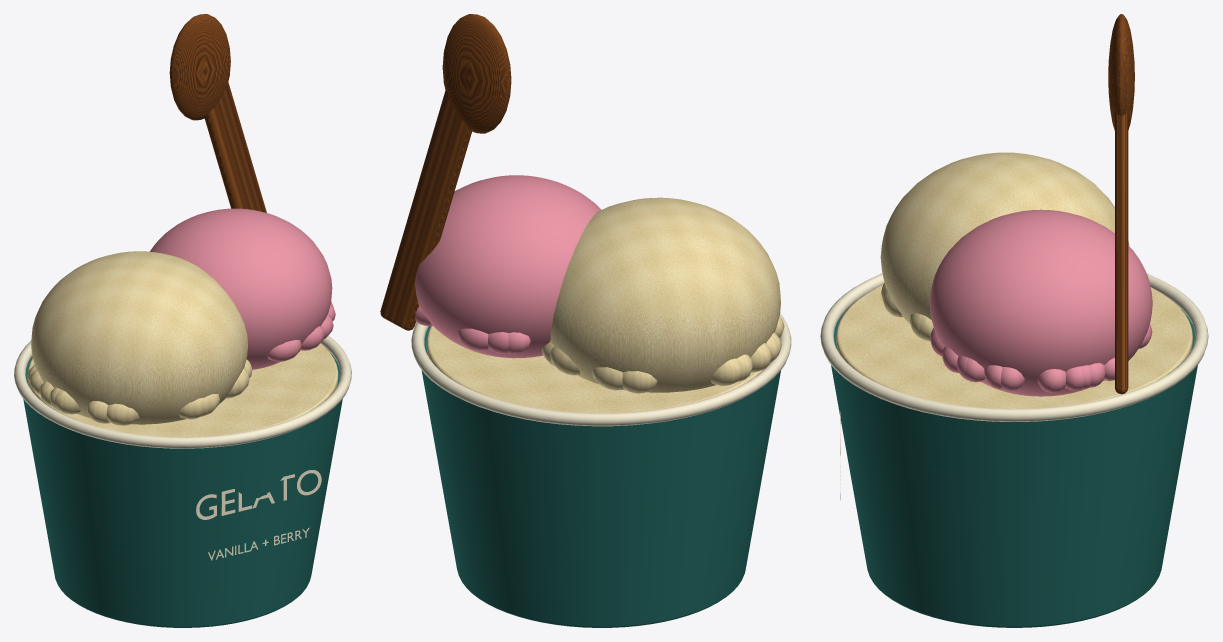
Rendered from 04_Gelato_Cup.glb.
3 renders of one model, left to right at view 1: azimuth 30°, elevation 25°; view 2: azimuth 150°, elevation 25°; view 3: azimuth 270°, elevation 25°, orthographic. The views are drawn at different scales.
Parts seen in each view (by area): view 1: SM_Tapered paper cup, SM_Hand scooped gelato, SM_Hand scooped gelato.001, SM_Ice cream surface, SM_Paper rolled lip, SM_Spoon bowl, SM_Wood spoon handle, SM_GELATO, SM_VANILLA + BERRY; view 2: SM_Tapered paper cup, SM_Hand scooped gelato, SM_Hand scooped gelato.001, SM_Ice cream surface, SM_Wood spoon handle, SM_Spoon bowl, SM_Paper rolled lip, SM_Scoop curled edge.011, SM_Scoop curled edge.002, SM_Scoop curled edge.006, SM_Scoop curled edge.037; view 3: SM_Tapered paper cup, SM_Hand scooped gelato.001, SM_Hand scooped gelato, SM_Ice cream surface, SM_Paper rolled lip, SM_Wood spoon handle, SM_Spoon bowl, SM_Scoop curled edge.021.
Boxes of the visible parts, x1,y1,x2,y2 form: SM_Tapered paper cup: [23, 348, 342, 627]; SM_Hand scooped gelato: [31, 251, 248, 424]; SM_Hand scooped gelato.001: [150, 208, 332, 369]; SM_Ice cream surface: [27, 343, 338, 436]; SM_Paper rolled lip: [14, 335, 351, 448]; SM_Spoon bowl: [169, 14, 230, 120]; SM_Wood spoon handle: [204, 82, 266, 212]; SM_GELATO: [196, 470, 321, 519]; SM_VANILLA + BERRY: [208, 527, 309, 560]; SM_Tapered paper cup: [421, 326, 780, 627]; SM_Hand scooped gelato: [550, 197, 780, 392]; SM_Hand scooped gelato.001: [415, 175, 601, 358]; SM_Ice cream surface: [426, 326, 769, 413]; SM_Wood spoon handle: [380, 90, 471, 330]; SM_Spoon bowl: [442, 14, 511, 133]; SM_Paper rolled lip: [411, 313, 791, 426]; SM_Scoop curled edge.011: [622, 371, 657, 393]; SM_Scoop curled edge.002: [710, 358, 741, 385]; SM_Scoop curled edge.006: [592, 367, 623, 390]; SM_Scoop curled edge.037: [457, 328, 488, 350]; SM_Tapered paper cup: [831, 309, 1197, 627]; SM_Hand scooped gelato.001: [929, 209, 1152, 396]; SM_Hand scooped gelato: [880, 152, 1129, 324]; SM_Ice cream surface: [836, 285, 1192, 408]; SM_Paper rolled lip: [820, 273, 1208, 421]; SM_Wood spoon handle: [1115, 112, 1128, 394]; SM_Spoon bowl: [1108, 14, 1134, 130]; SM_Scoop curled edge.021: [1037, 369, 1065, 392].
Bounding box in the file's own units: 0.0886 × 0.145 × 0.087.
5 materials, 2 textured.
